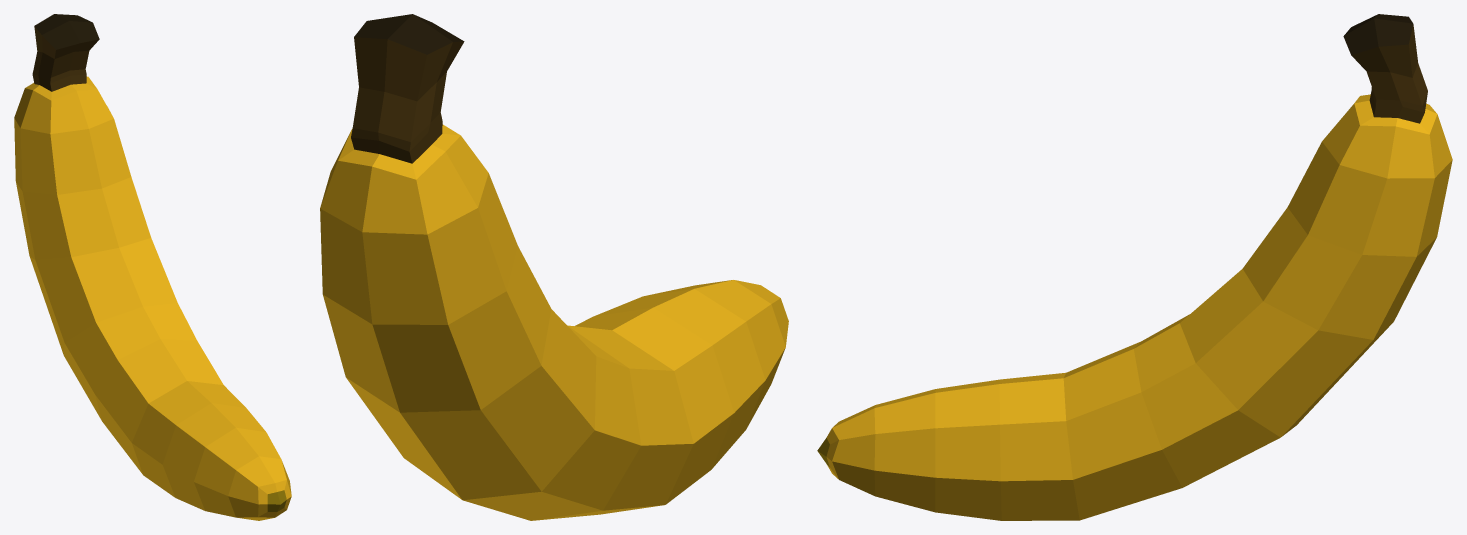
File: banana.fbx
The picture shows the model from 3 angles, left to right: view 1: azimuth 30°, elevation 25°; view 2: azimuth 150°, elevation 25°; view 3: azimuth 270°, elevation 25°; orthographic projection. The views are drawn at different scales.
Parts seen in each view (by area): view 1: Cube; view 2: Cube; view 3: Cube.
Boxes of the visible parts, bbox=[...] form: Cube: bbox=[14, 14, 291, 520]; Cube: bbox=[320, 14, 788, 520]; Cube: bbox=[817, 14, 1452, 520].
Bounding box in the file's own units: 177 × 571 × 661.
